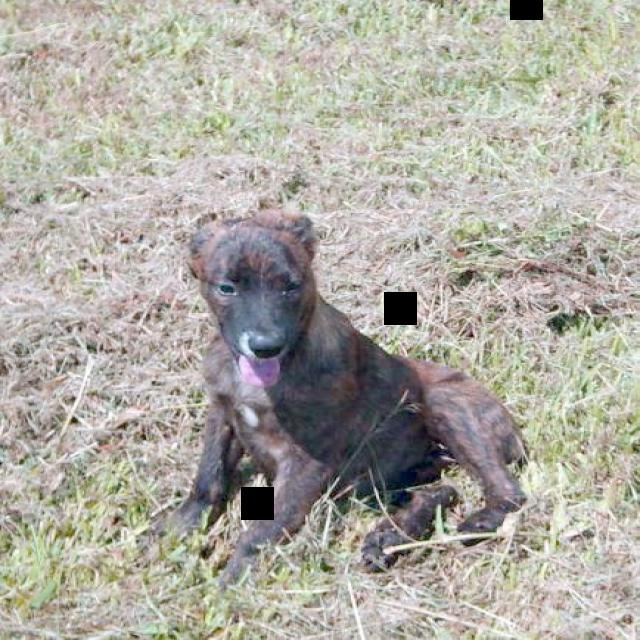puppy-dog: (163, 205, 529, 590)
